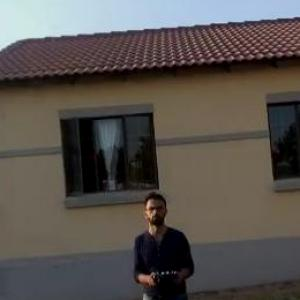follow: (128, 184, 201, 299)
